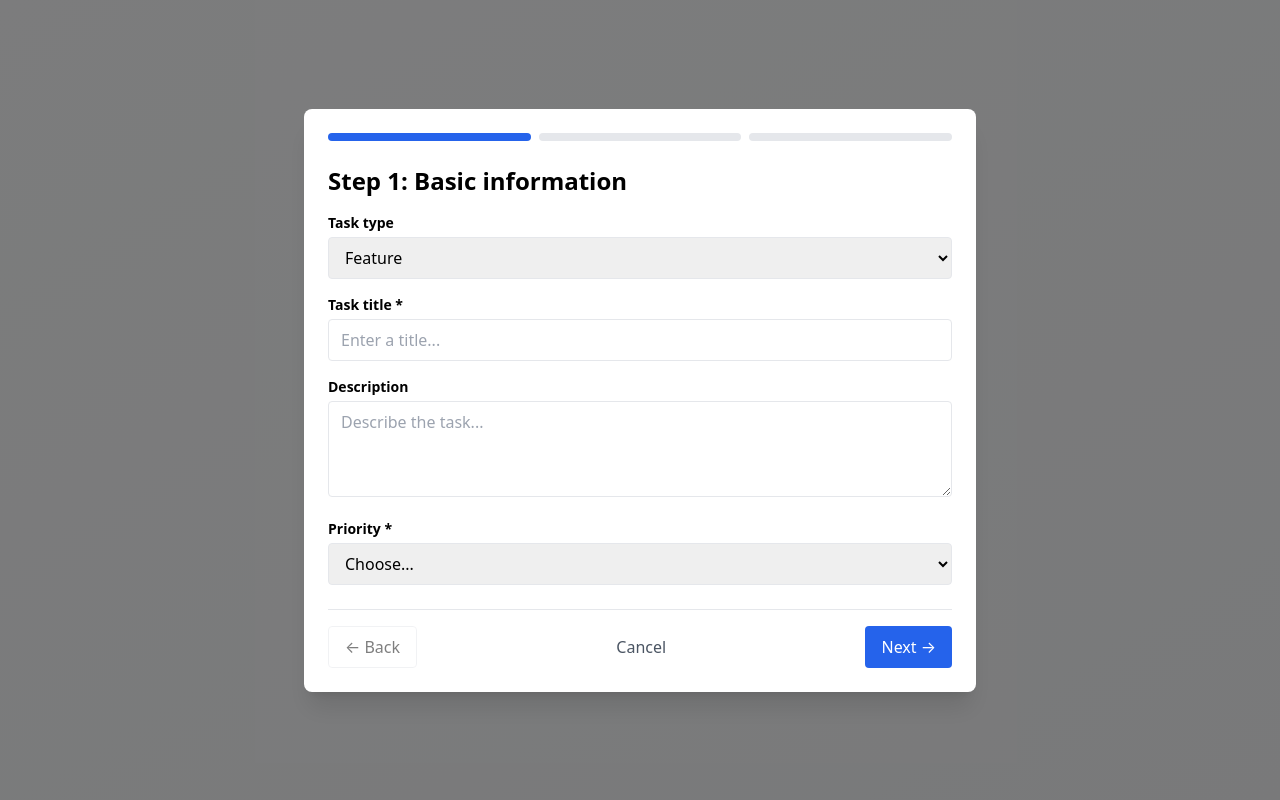
Test: TaskWizard step 2 validation › rejects an estimatedHours of 0 as not a positive number and does not submit
This screenshot has width=1280, height=800.
Type "A valid title" into the field with test id "task-title-input" at (640, 340), box [328, 318, 952, 360]
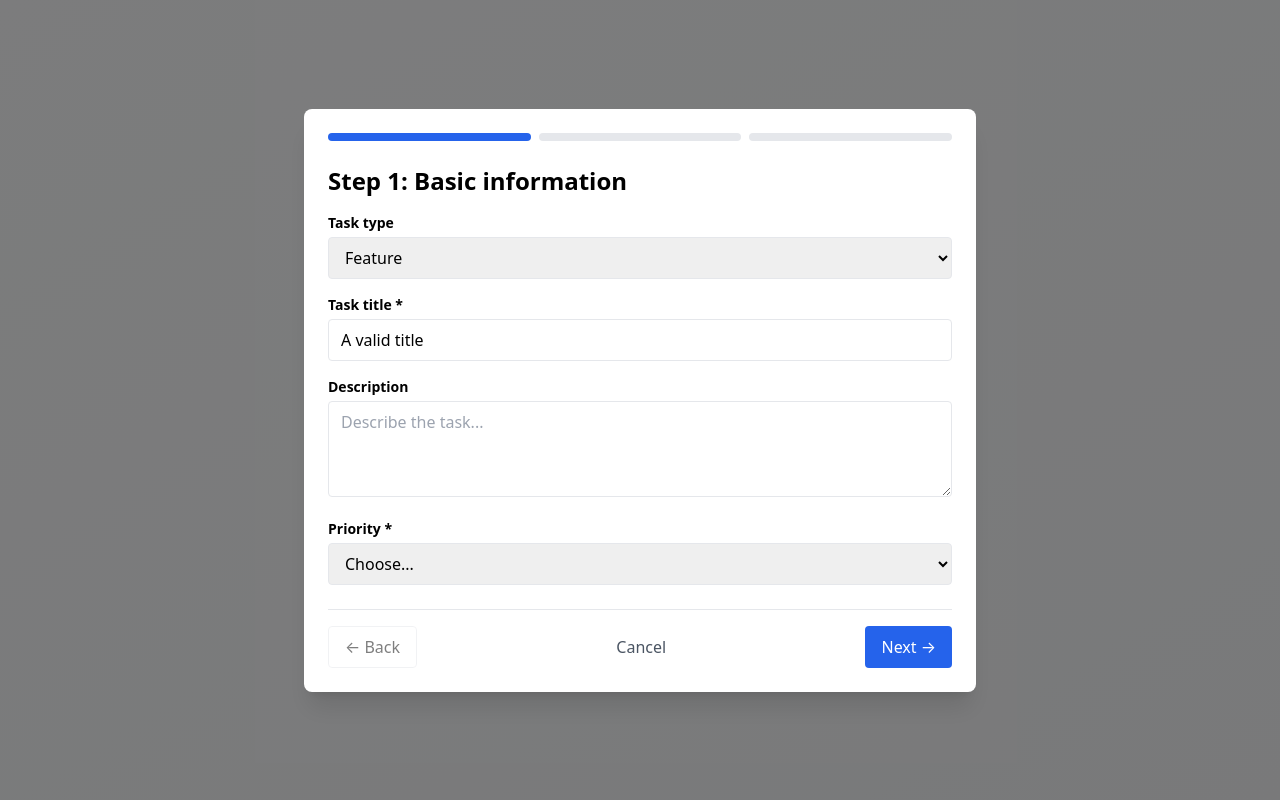
Select "Medium" in the dropdown with test id "task-priority-select" at (640, 564), box [328, 542, 952, 584]
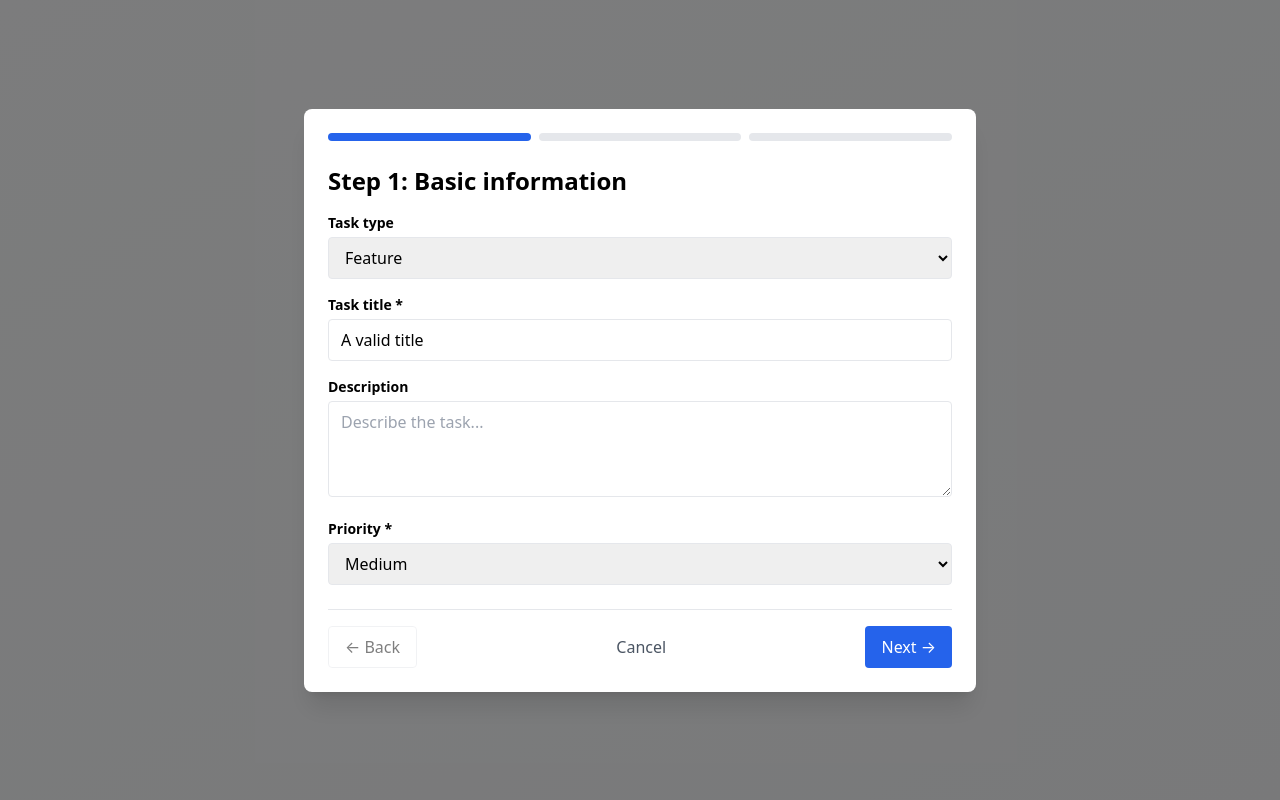
Click the button with test id "wizard-next-btn" at (909, 646), box [866, 626, 952, 668]
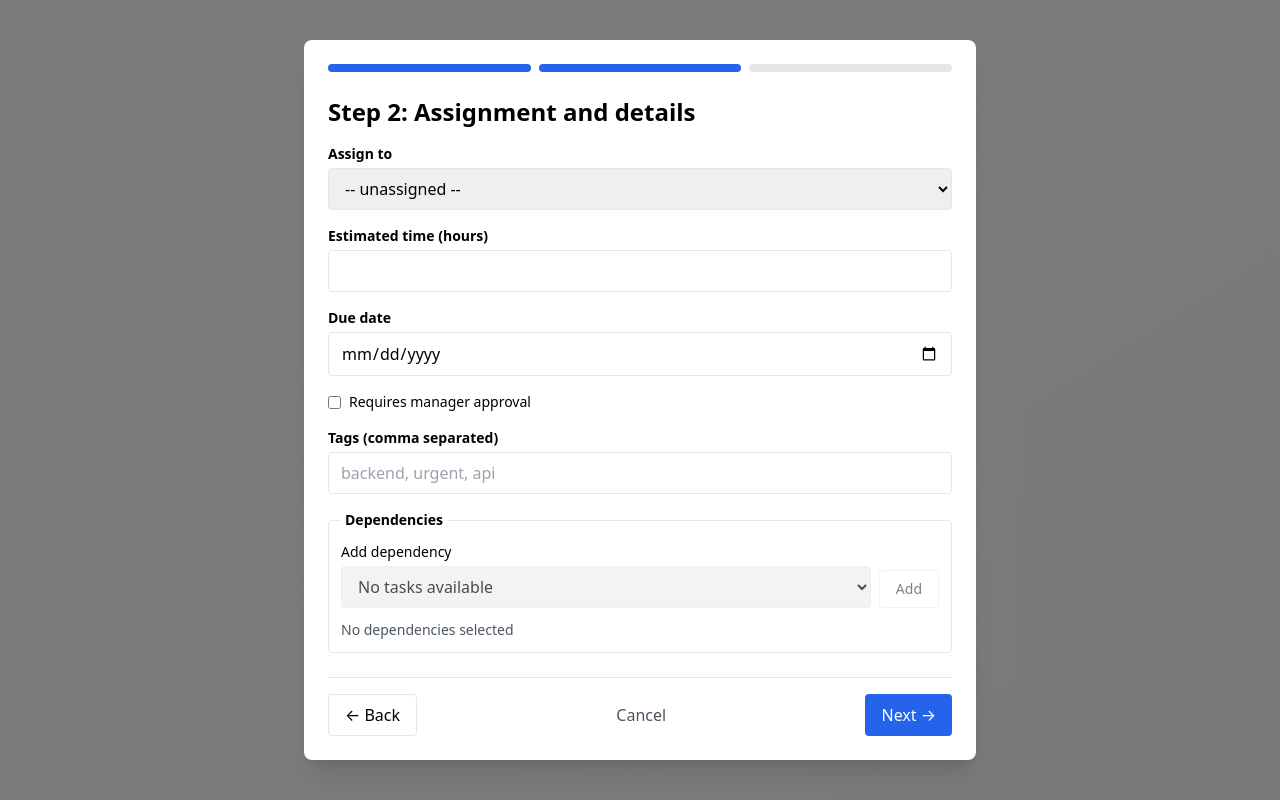
Select "Alice" in the dropdown with test id "task-assignee-select" at (640, 189), box [328, 168, 952, 210]
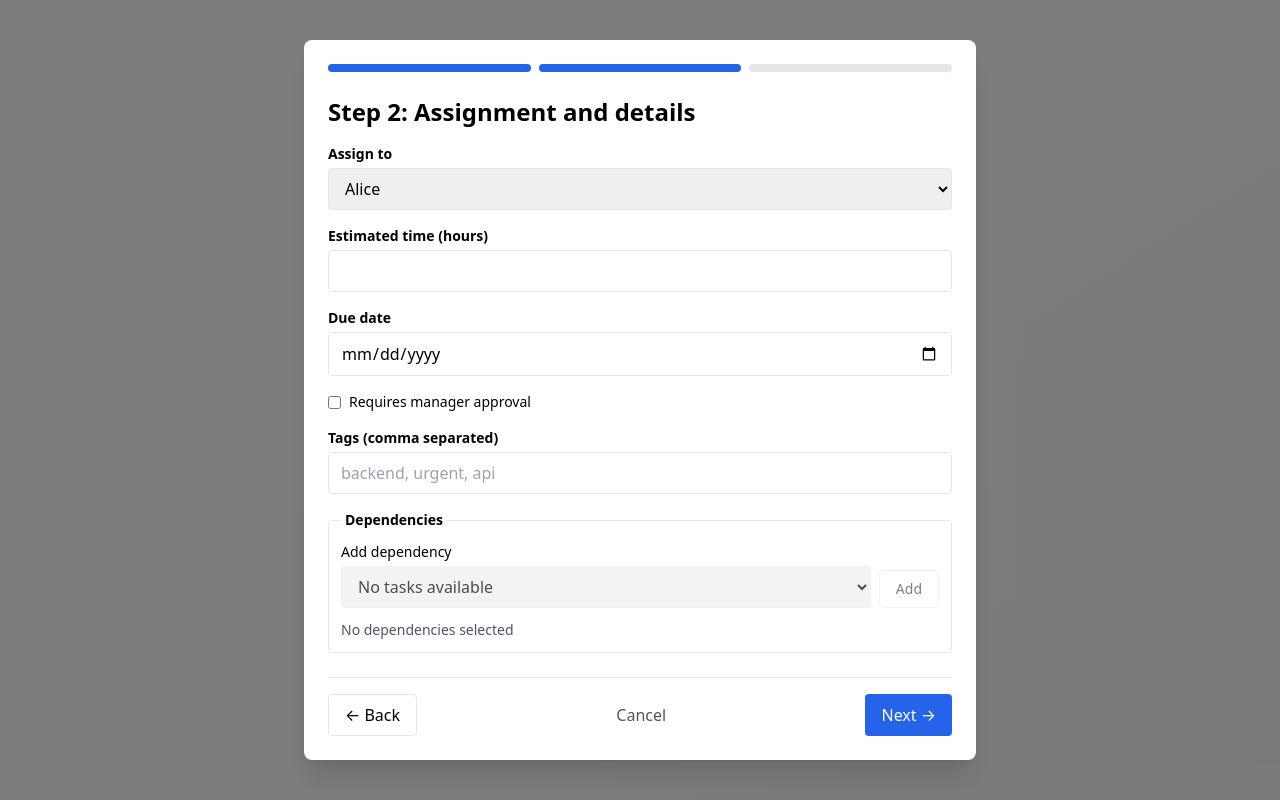
Type "0" into the number field with test id "task-hours-input" at (640, 271), box [328, 250, 952, 292]
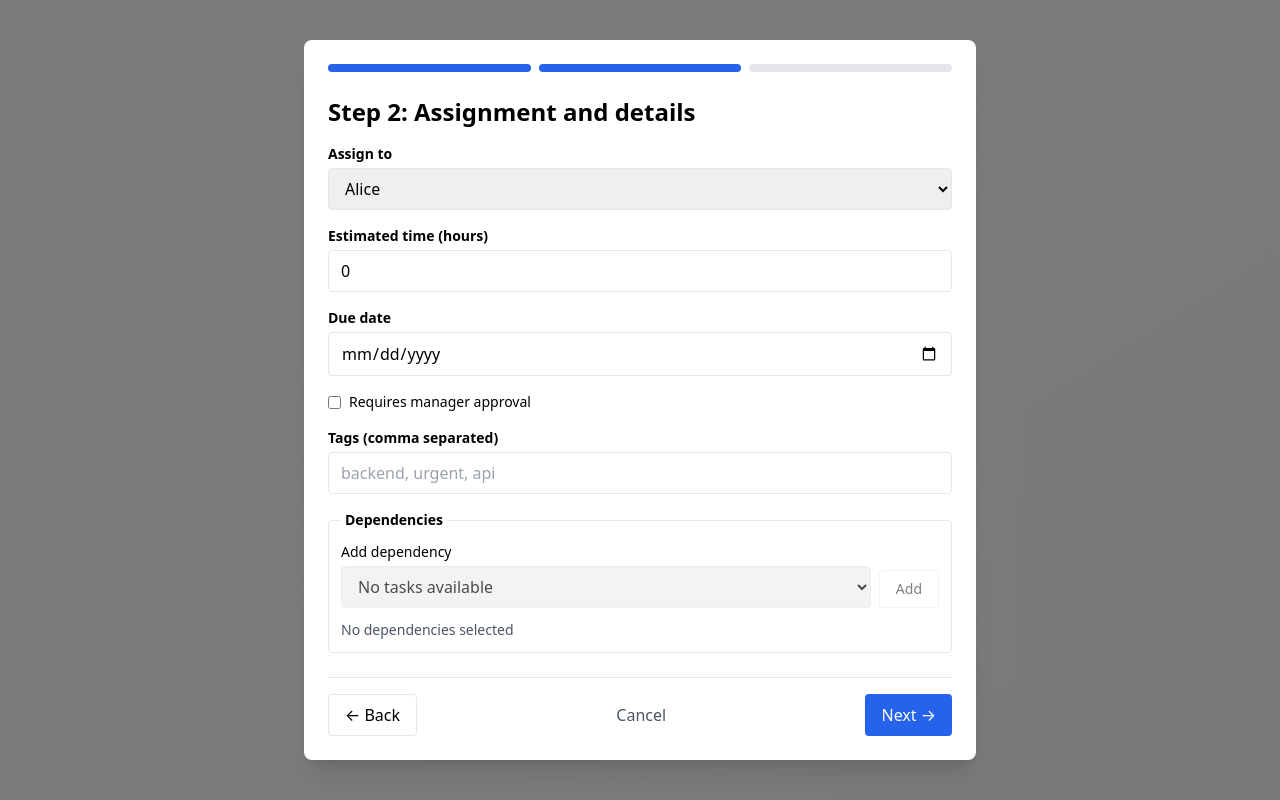
Click the button with test id "wizard-next-btn" at (909, 715), box [866, 694, 952, 736]
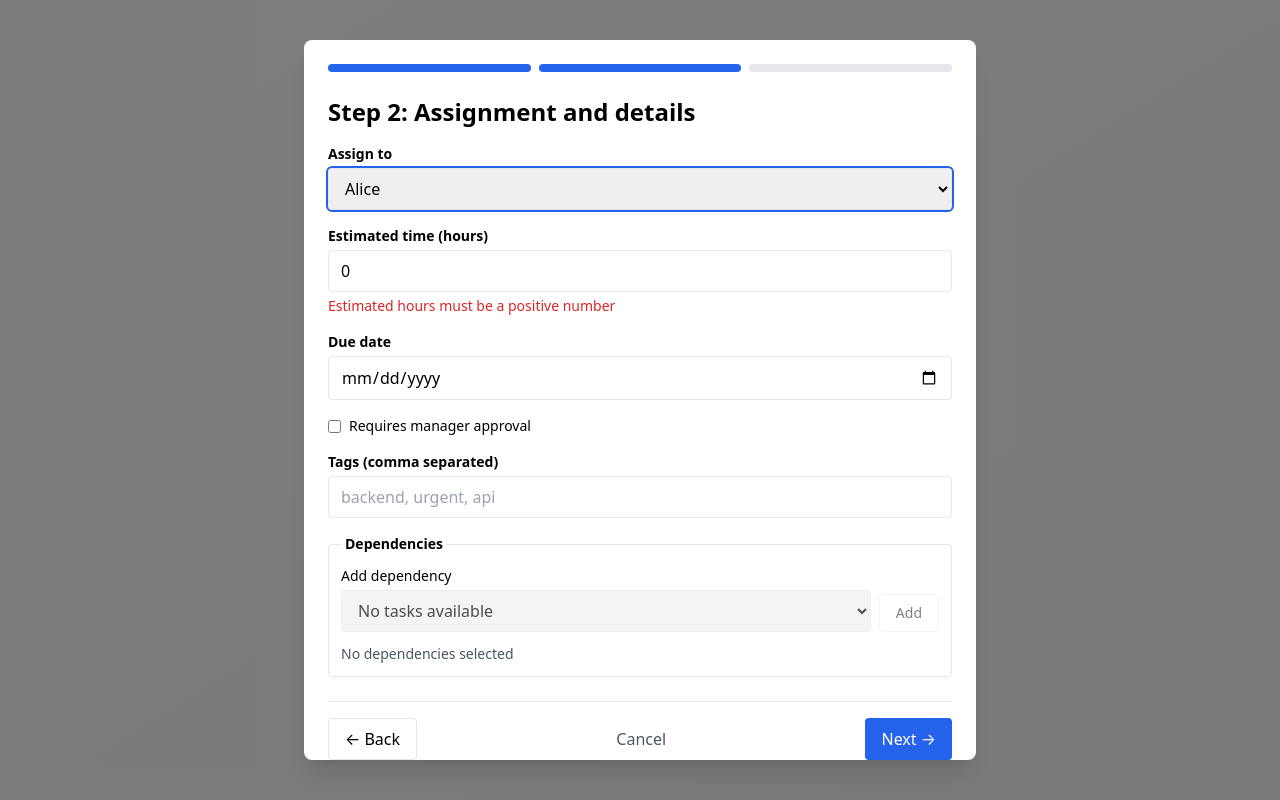
expect the text "Estimated hours must be a positive number" is shown: met, box [328, 296, 615, 315]
